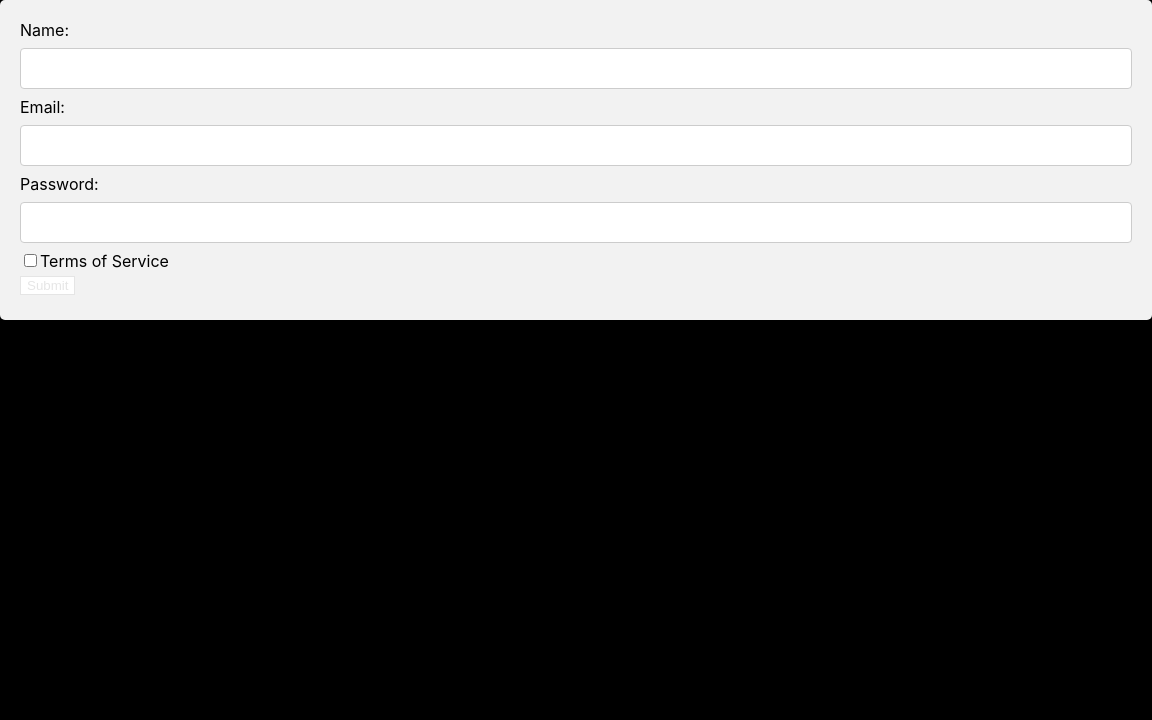
Test: Test form inputs and submittal › Check form validation if input is left empty
Type "Jean-Luc Picard" into the field named "name".
click(576, 69); type("Jean-Luc Picard")  # box [20, 48, 1132, 89]
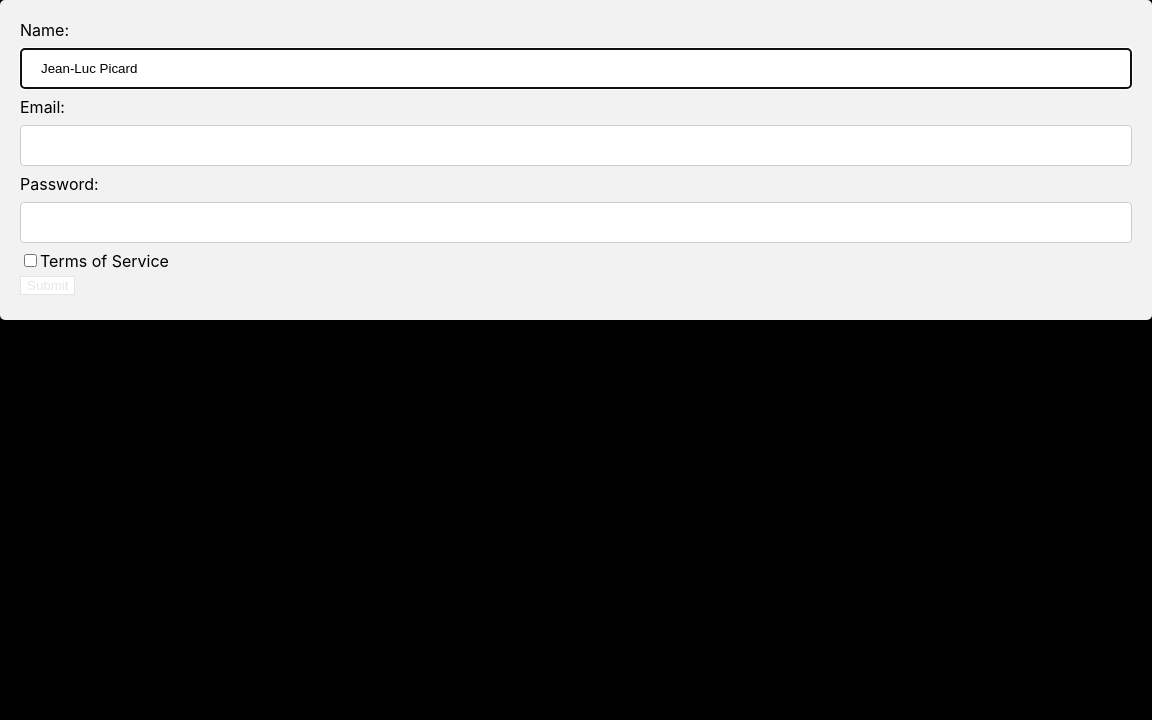
Clear the field named "name" at (576, 69), box [20, 48, 1132, 89]
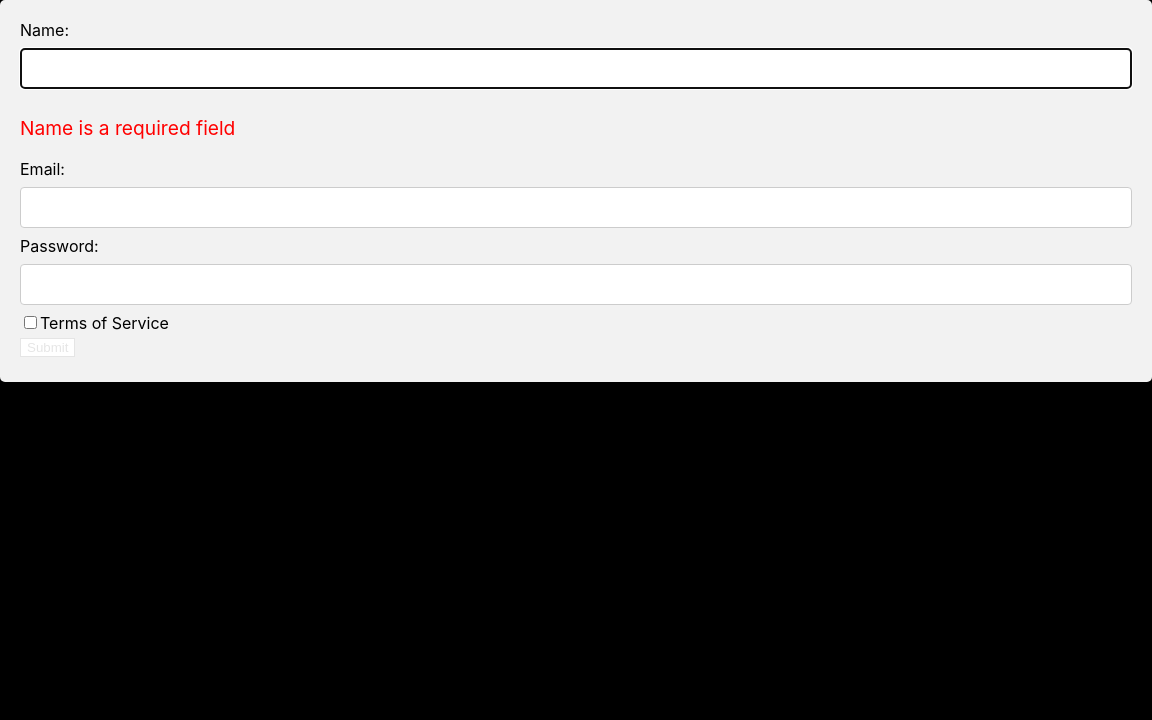
Now the text "Name is a required field" is shown, box [20, 116, 235, 140]
Type "ben" into the field named "email".
click(576, 208); type("ben")  # box [20, 187, 1132, 228]
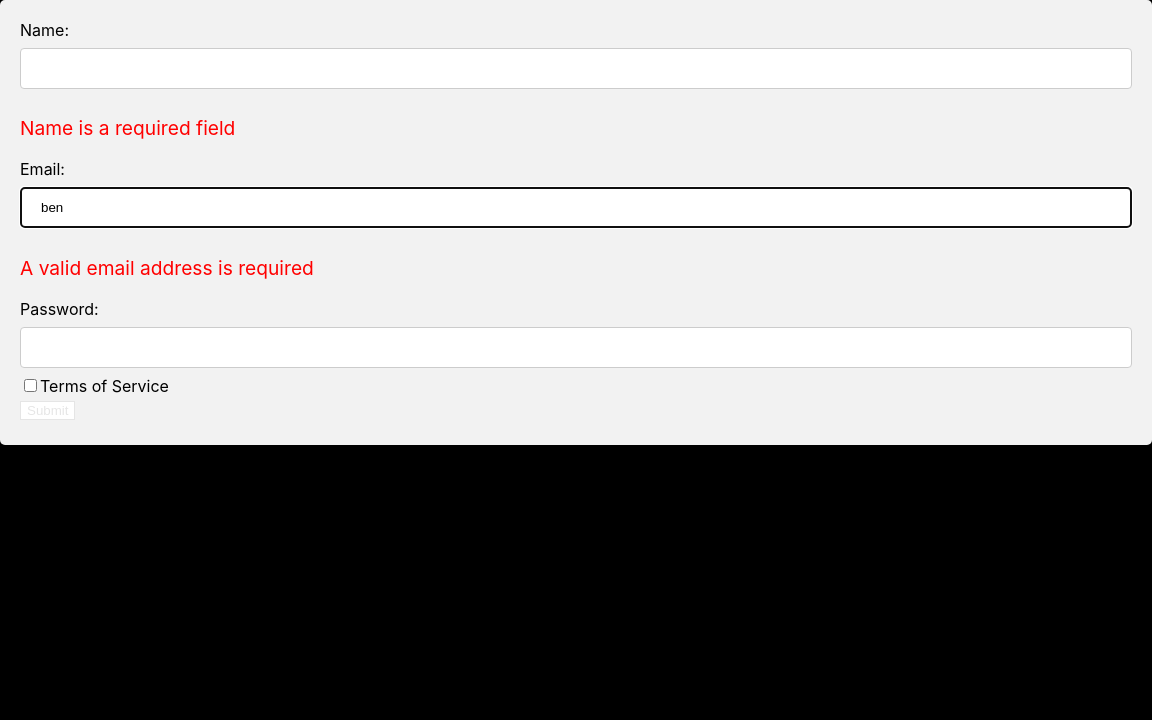
Now the text "A valid email address is required" is shown, box [20, 256, 314, 280]
Type "dfdf" into the field named "pwd".
click(576, 348); type("dfdf")  # box [20, 327, 1132, 368]
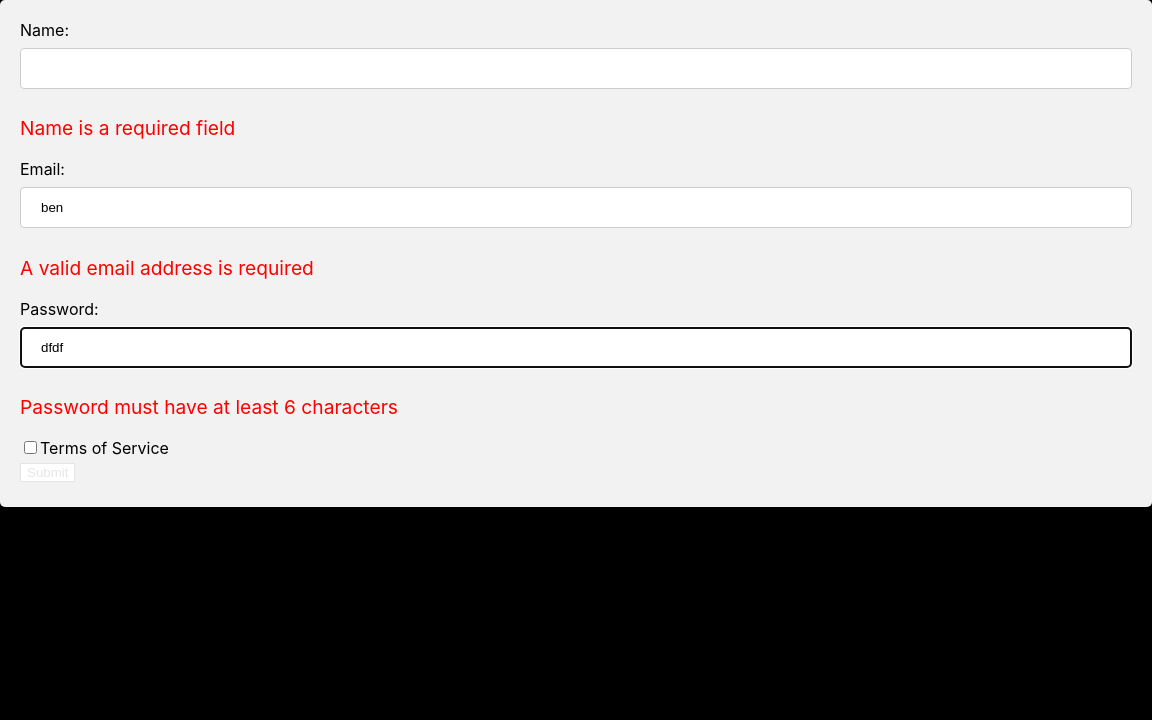
Now the text "Password must have at least 6 characters" is shown, box [20, 395, 398, 419]
